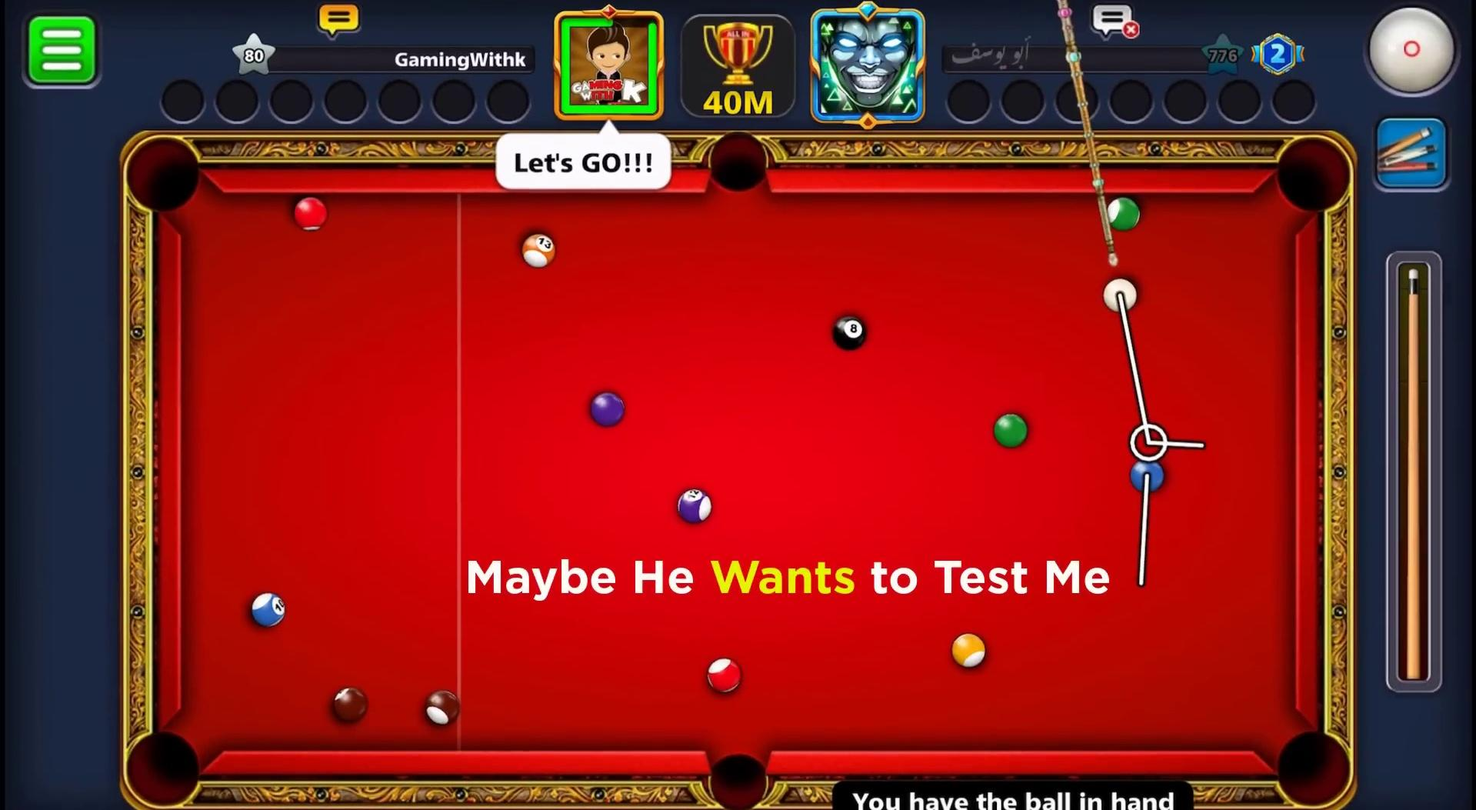Ball: (1098, 192, 1149, 233), (949, 630, 991, 677), (704, 655, 743, 698), (1128, 455, 1168, 493), (833, 310, 869, 351), (589, 390, 626, 428), (331, 685, 368, 723), (993, 411, 1030, 449), (425, 689, 461, 726), (249, 591, 286, 627), (521, 231, 557, 268), (677, 487, 712, 523), (293, 195, 328, 231)
Force: (1389, 252, 1445, 696)
Guideline: (1112, 295, 1209, 453), (1131, 476, 1159, 586), (1128, 420, 1172, 463)
Hole: (1272, 132, 1356, 220), (1275, 731, 1352, 810), (124, 135, 202, 212), (126, 730, 202, 805), (702, 748, 771, 810), (708, 131, 768, 191)
Play_Area: (181, 192, 1293, 753)
Spin: (1357, 3, 1460, 101)
White: (1102, 276, 1141, 315)
